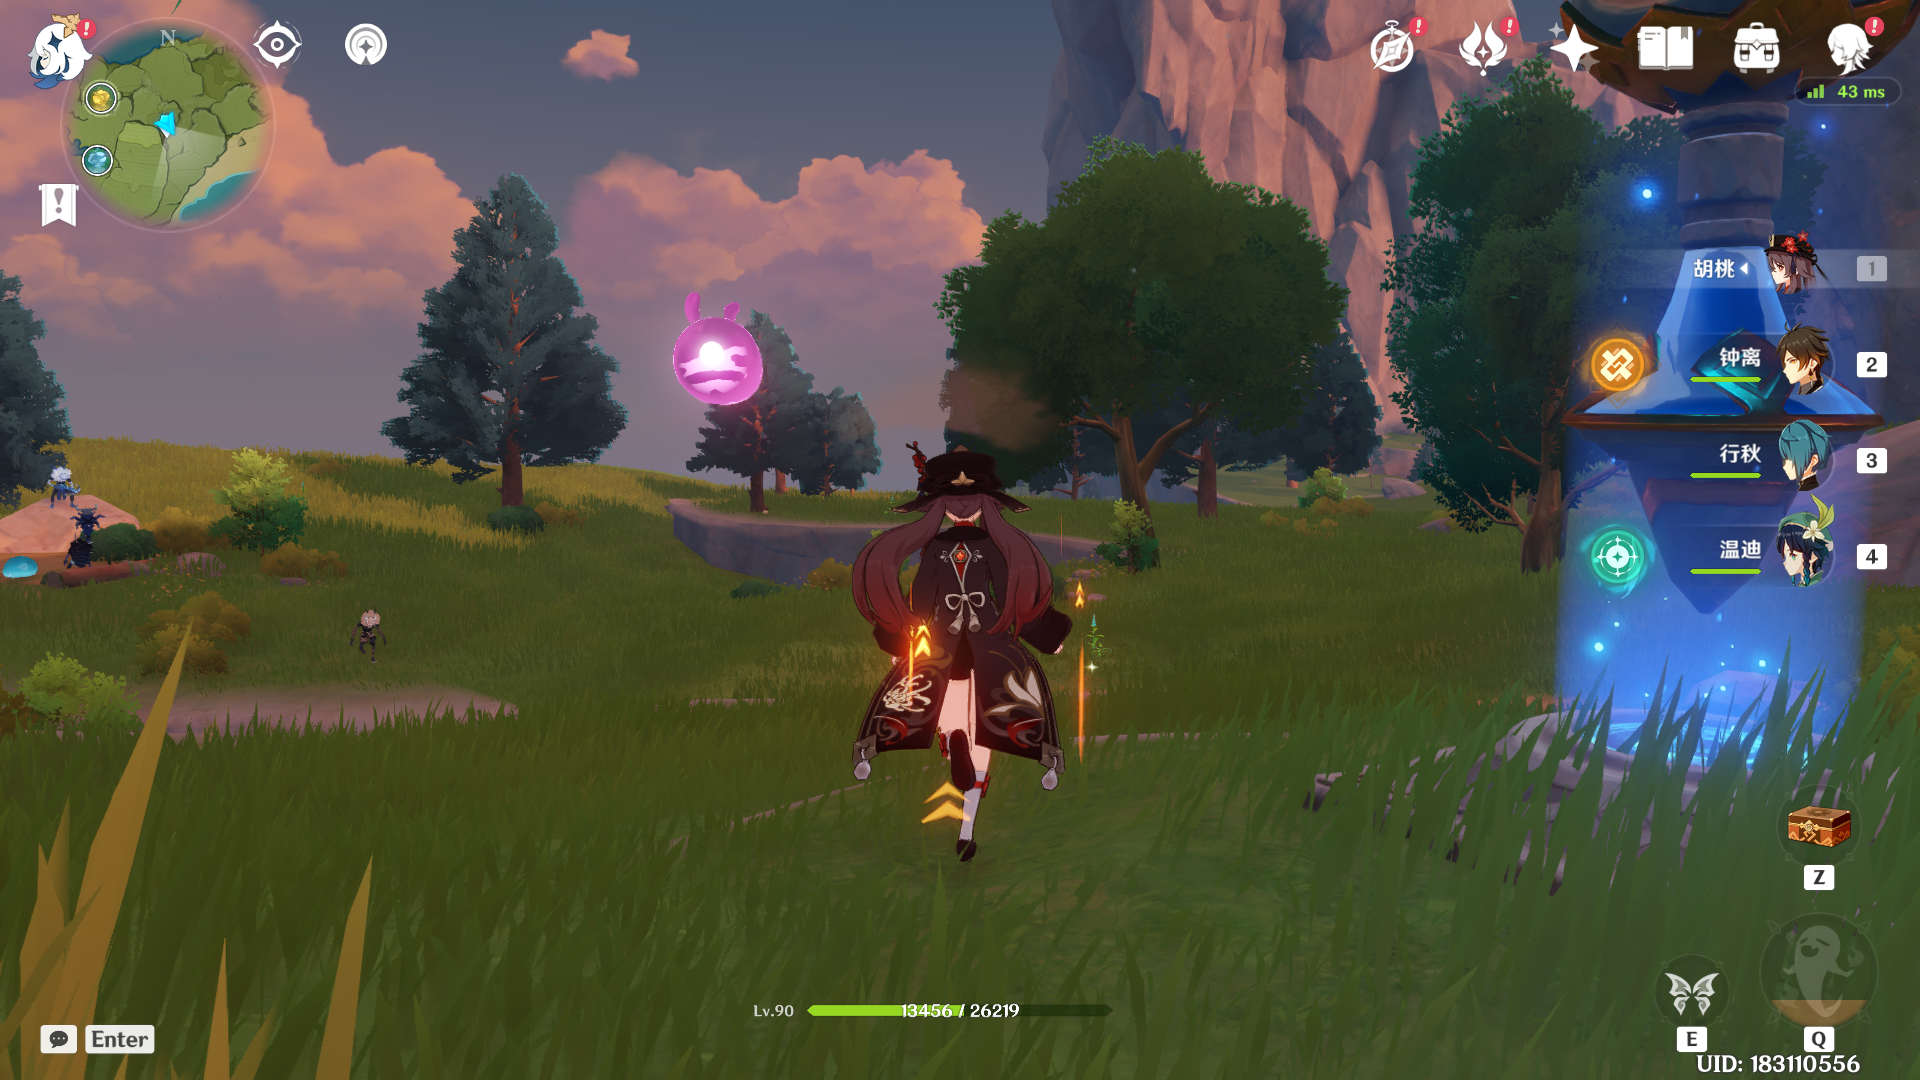character: (804, 413, 1153, 930)
